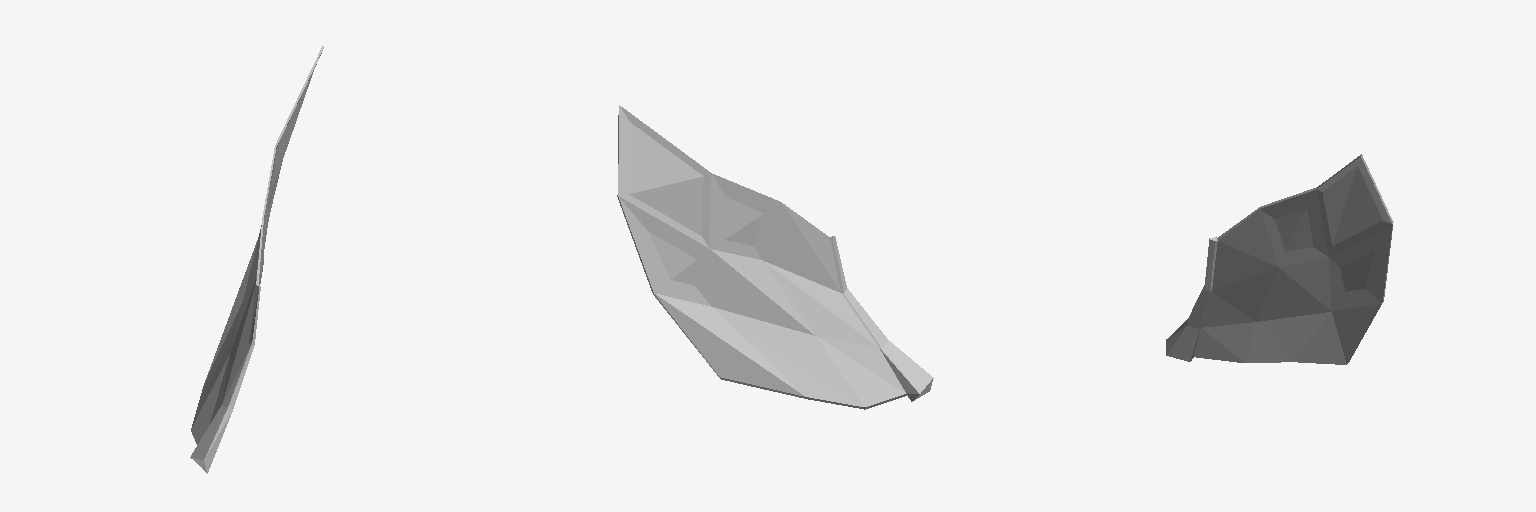
The model's file is Harish_wing_left.obj.
3 views of the same model, side by side, from view 1: azimuth 30°, elevation 25°; view 2: azimuth 150°, elevation 25°; view 3: azimuth 270°, elevation 25° (orthographic).
Visible parts, largest first — view 1: Wings_left; view 2: Wings_left; view 3: Wings_left.
Boxes of the visible parts, x1,y1,x2,y2 form: Wings_left: [190, 46, 323, 473]; Wings_left: [617, 105, 933, 409]; Wings_left: [1166, 154, 1393, 364].
Bounding box in the file's own units: 99.85 × 136 × 90.17.